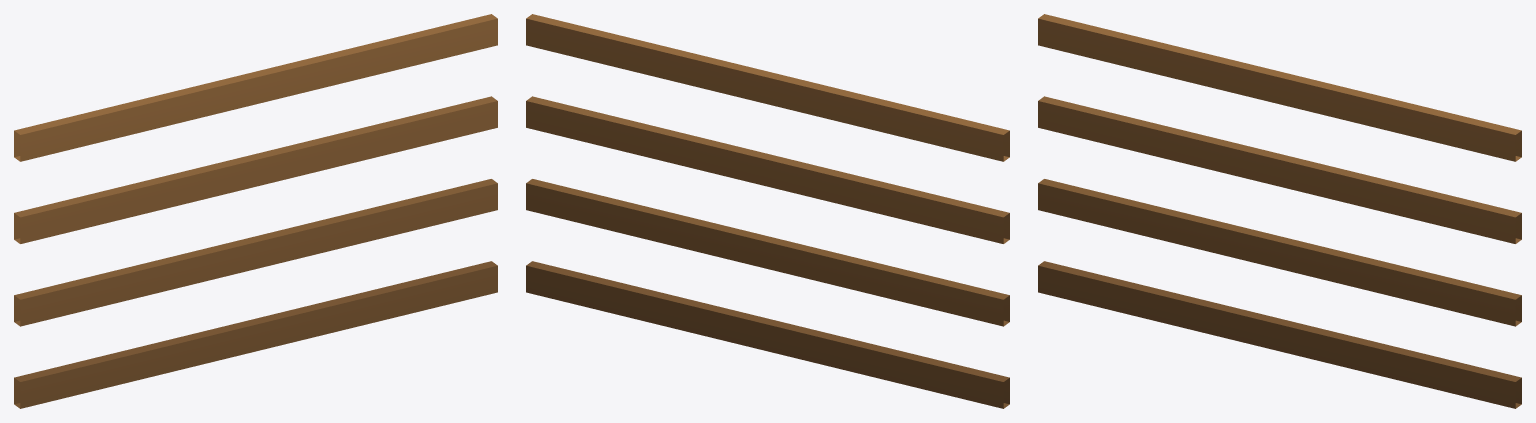
File: Bld_01_Fence_Wood_01.obj
3 renders of one model, left to right at view 1: azimuth 30°, elevation 25°; view 2: azimuth 150°, elevation 25°; view 3: azimuth 330°, elevation 25°, orthographic.
Parts seen in each view (by area): view 1: Bld_01_Fence_Wood_01; view 2: Bld_01_Fence_Wood_01; view 3: Bld_01_Fence_Wood_01.
Boxes of the visible parts, x1=… form: Bld_01_Fence_Wood_01: x1=14, y1=14, x2=497, y2=408; Bld_01_Fence_Wood_01: x1=526, y1=14, x2=1009, y2=408; Bld_01_Fence_Wood_01: x1=1038, y1=14, x2=1521, y2=408.
Bounding box in the file's own units: 1.8 × 0.9865 × 0.0408.
1 material, 1 textured.
